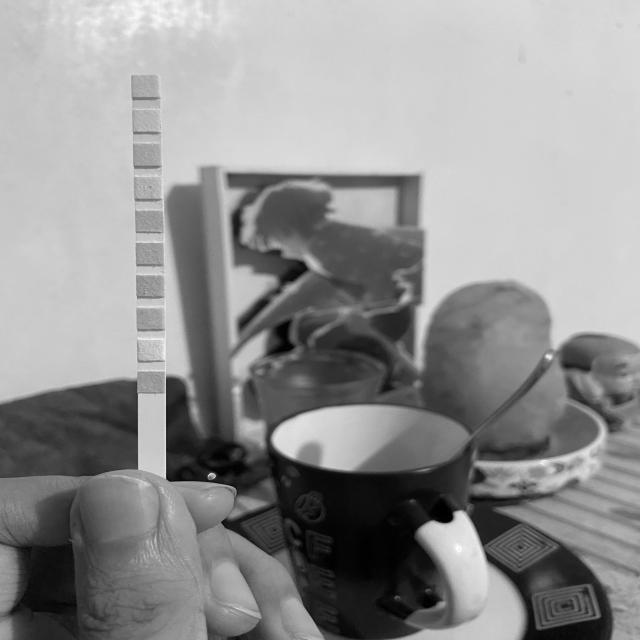Bilirubin: (138, 340, 165, 360)
Blood: (136, 243, 164, 264)
Glucose: (139, 372, 164, 392)
Ketone: (138, 307, 164, 330)
Leukocytes: (132, 76, 160, 98)
Nitrite: (133, 110, 160, 132)
Protein: (135, 177, 162, 199)
SpGravity: (136, 276, 164, 296)
Urobilinogen: (134, 144, 162, 166)
background: (0, 0, 640, 640)
pH: (136, 210, 162, 232)
strip: (132, 75, 166, 469)
